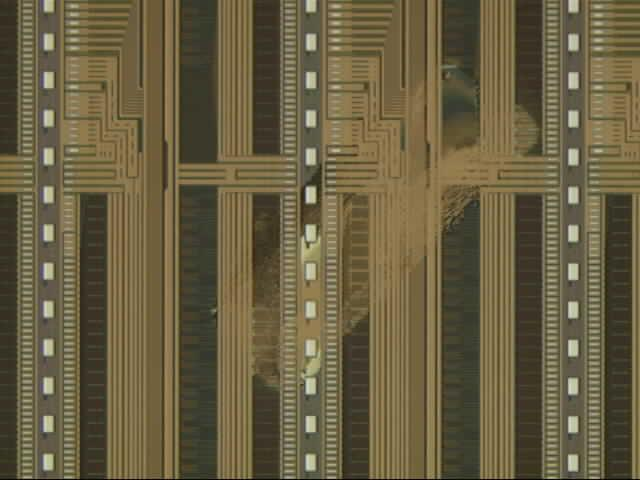BLOCK ETCH: (211, 50, 539, 399)
